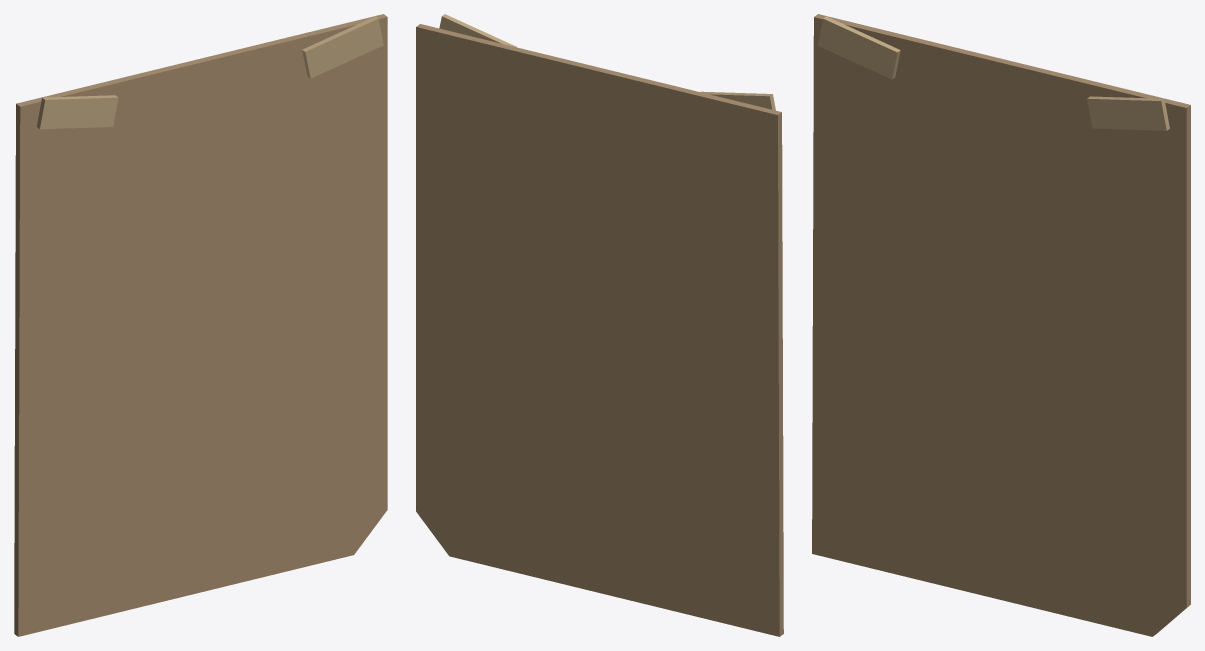
File: mia-flyer.glb
3 renders of one model, left to right at view 1: azimuth 30°, elevation 25°; view 2: azimuth 150°, elevation 25°; view 3: azimuth 330°, elevation 25°, orthographic. The views are drawn at different scales.
Parts seen in each view (by area): view 1: Body_page-beige, Body_canvas; view 2: Body_page-beige, Body_canvas; view 3: Body_page-beige, Body_canvas.
Boxes of the visible parts, <box> form: Body_page-beige: <box>14,14,387,636</box>; Body_canvas: <box>36,16,383,129</box>; Body_page-beige: <box>416,24,783,636</box>; Body_canvas: <box>439,14,775,110</box>; Body_page-beige: <box>812,14,1190,636</box>; Body_canvas: <box>818,16,1169,130</box>.
Size of the model in its own units: 0.405 by 0.5638 by 0.023.
